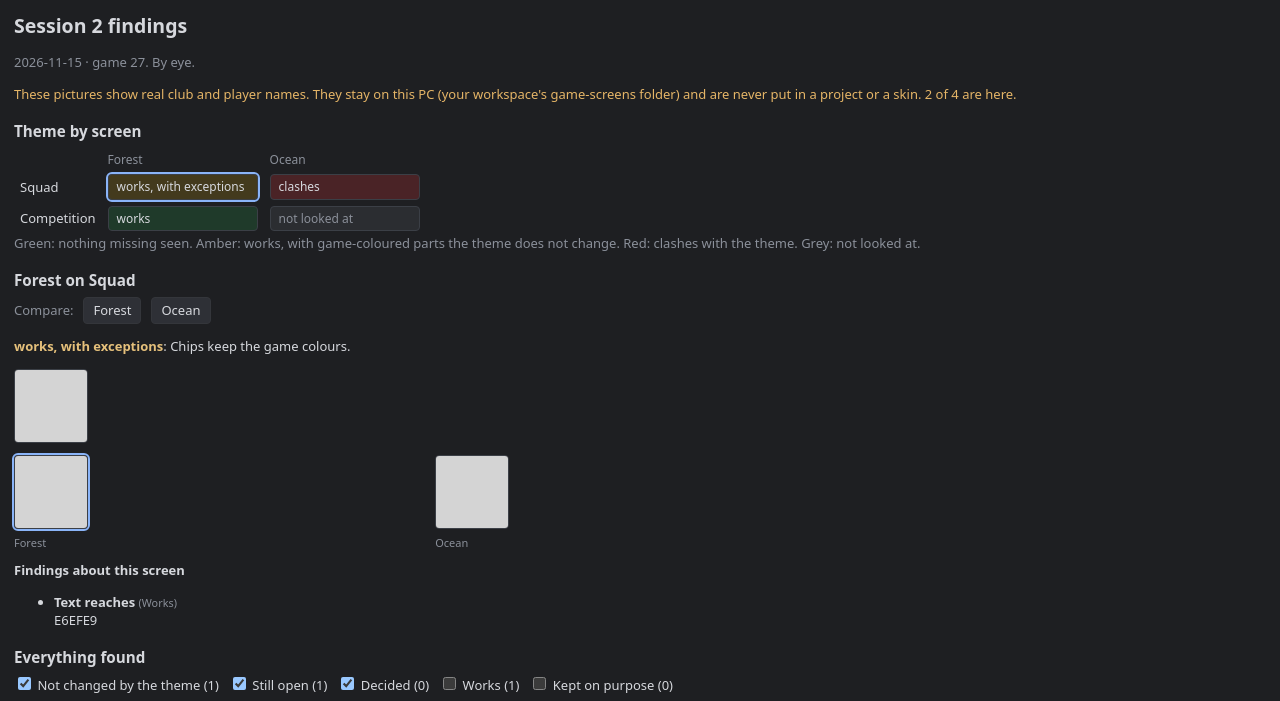
it: Findings › a screen without a screenshot says so, and a cell not looked at is still listed
Click the button with test id "cell-ocean-competition": [345, 218] box [270,206,420,231]
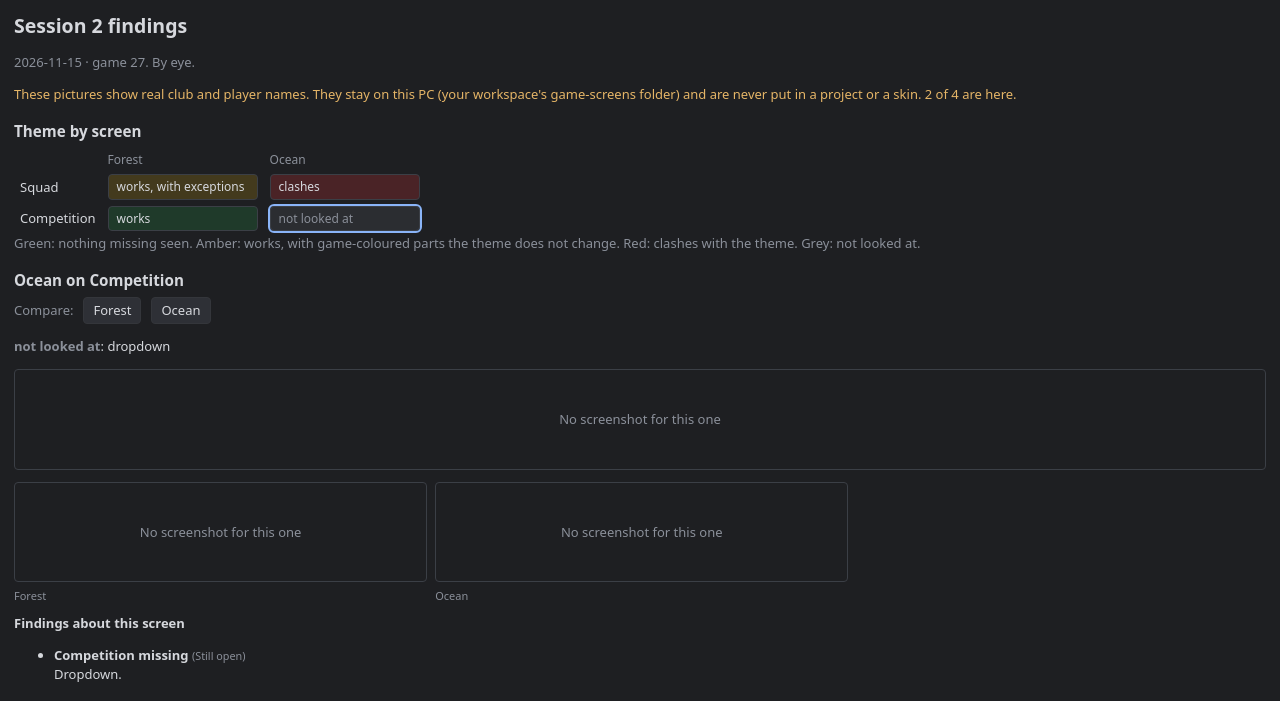
Result: the 1st text "No screenshot for this one" is shown at [14,369,1266,470]
Result: the element with test id "verdict-note" reads "not looked at: dropdown" at [14,337,170,355]
